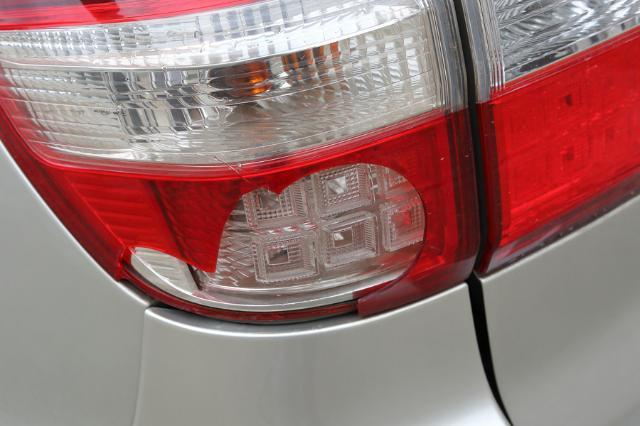Light: (74, 102, 451, 322)
